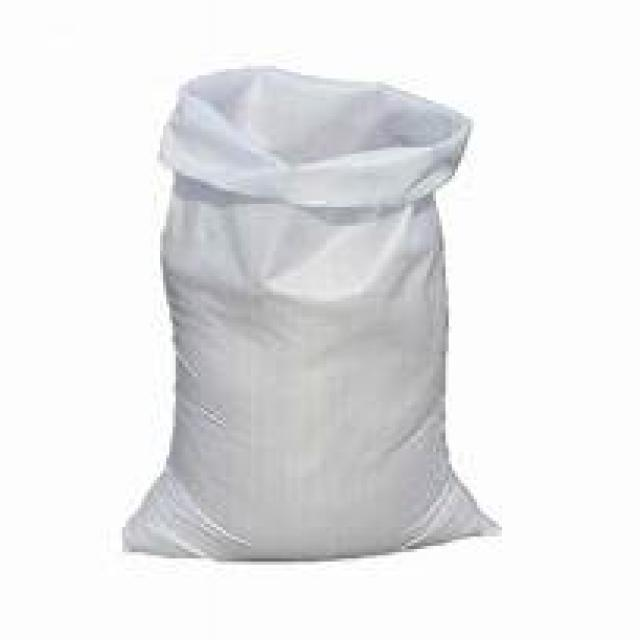gunny_bag: (110, 58, 515, 563)
